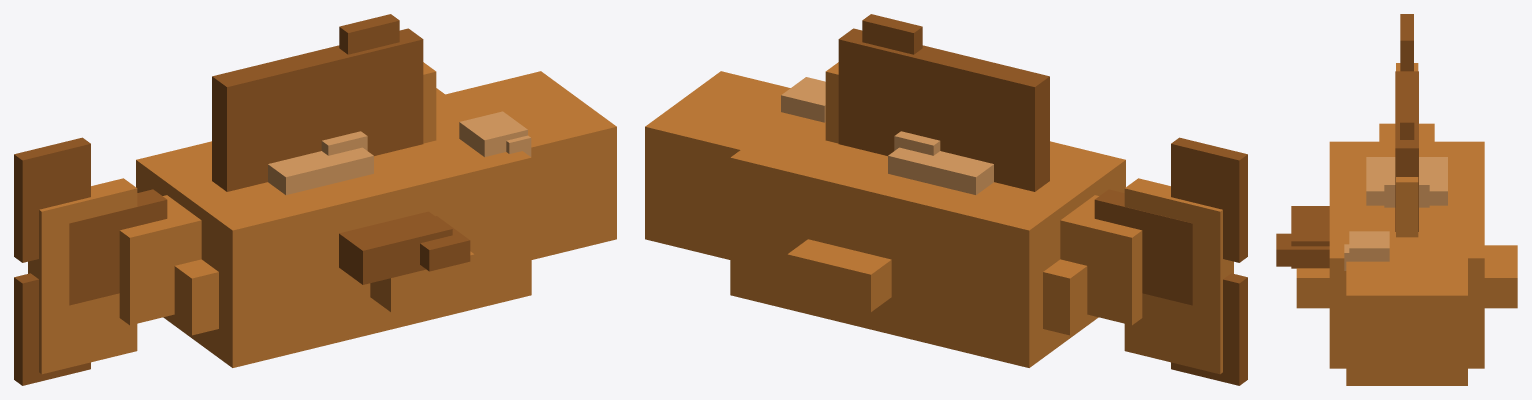
Rendered from fish_bronze_quay.glb.
3 renders of one model, left to right at view 1: azimuth 30°, elevation 25°; view 2: azimuth 150°, elevation 25°; view 3: azimuth 270°, elevation 25°, orthographic. The views are drawn at different scales.
Visible parts, largest first — view 1: FishArt_body, FishArt_dorsal, FishArt_tail, FishArt_pectoral, FishArt_specialty, FishArt_eye; view 2: FishArt_body, FishArt_dorsal, FishArt_tail, FishArt_specialty, FishArt_eye; view 3: FishArt_body, FishArt_pectoral, FishArt_specialty, FishArt_dorsal, FishArt_eye, FishArt_tail.
Boxes of the visible parts, x1,y1,x2,y2 form: FishArt_body: [28, 62, 616, 374]; FishArt_dorsal: [212, 14, 423, 191]; FishArt_tail: [14, 137, 167, 385]; FishArt_pectoral: [339, 211, 470, 284]; FishArt_specialty: [268, 131, 373, 194]; FishArt_eye: [459, 111, 531, 156]; FishArt_body: [645, 62, 1233, 374]; FishArt_dorsal: [838, 14, 1049, 191]; FishArt_tail: [1094, 137, 1247, 385]; FishArt_specialty: [888, 131, 993, 194]; FishArt_eye: [781, 77, 825, 122]; FishArt_body: [1296, 63, 1517, 385]; FishArt_pectoral: [1276, 206, 1329, 268]; FishArt_specialty: [1366, 157, 1447, 207]; FishArt_dorsal: [1395, 71, 1418, 231]; FishArt_eye: [1344, 231, 1389, 270]; FishArt_tail: [1400, 14, 1413, 71].
Size of the model in its own units: 0.3091 by 0.1442 by 0.1439.
